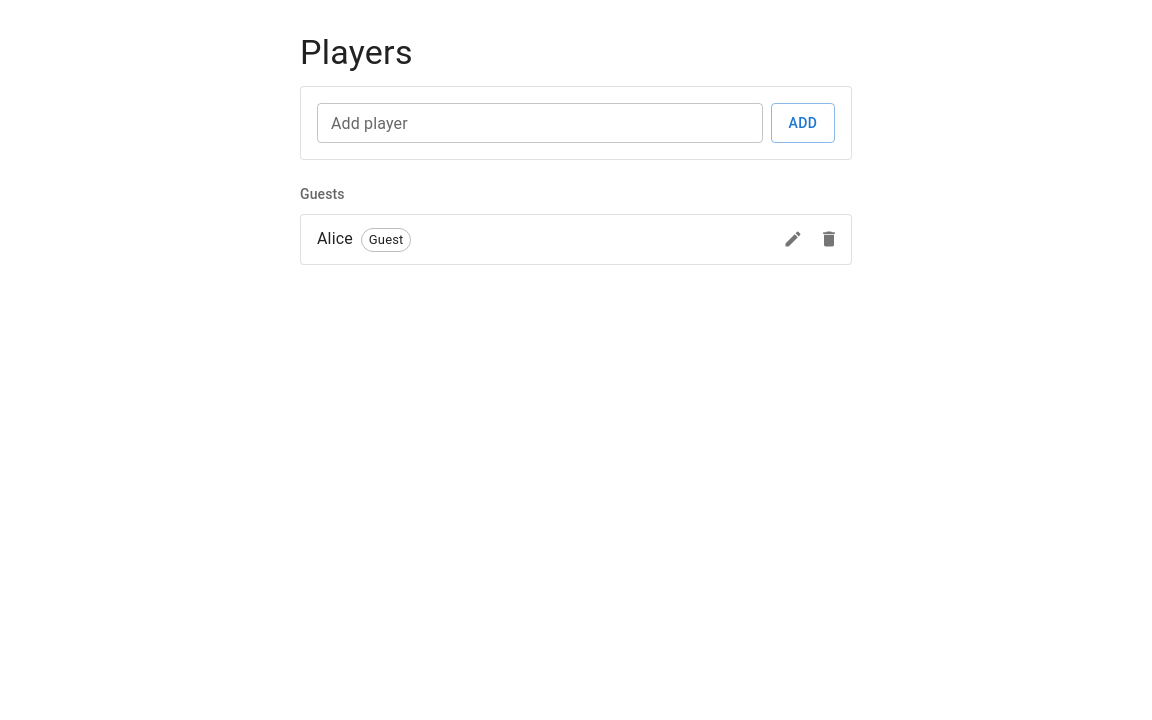
Scenario: PlayersListPage › deletes a player with no recorded rounds after confirming
expect the text "Alice" is shown: met, box left=317, top=227, right=353, bottom=251
Click the button named "delete alice". click: (829, 239)
box: left=811, top=221, right=847, bottom=257
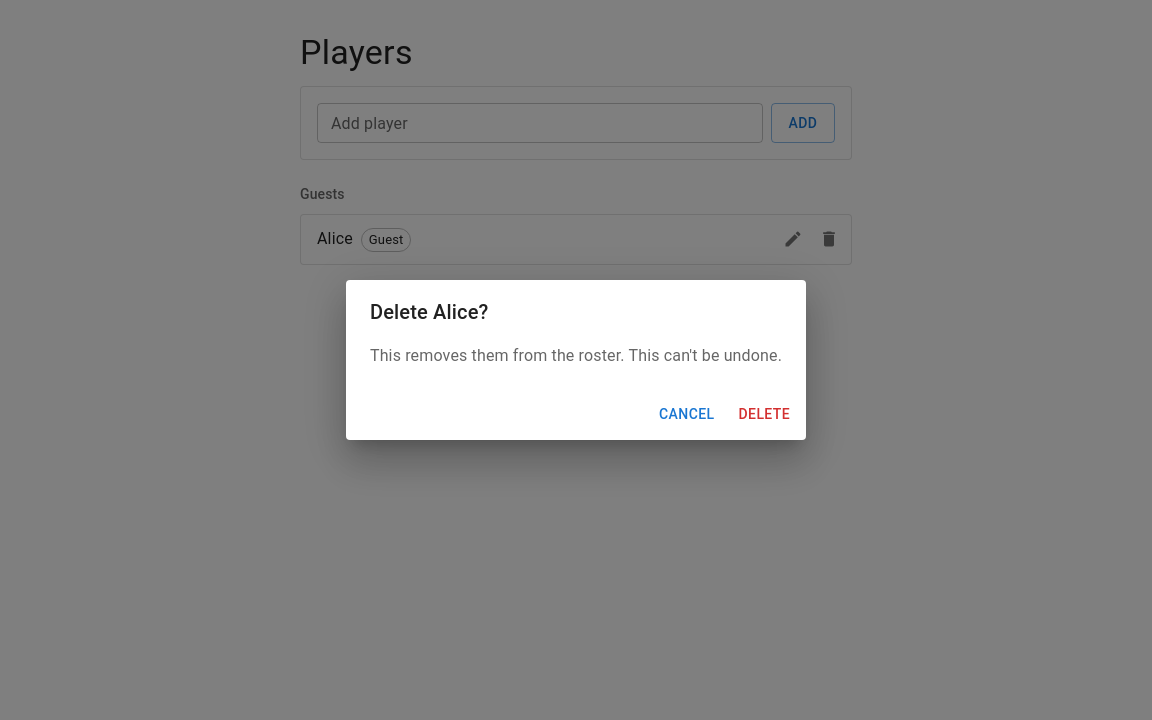
Click the button "Delete". click: (764, 414)
box: left=730, top=396, right=798, bottom=432
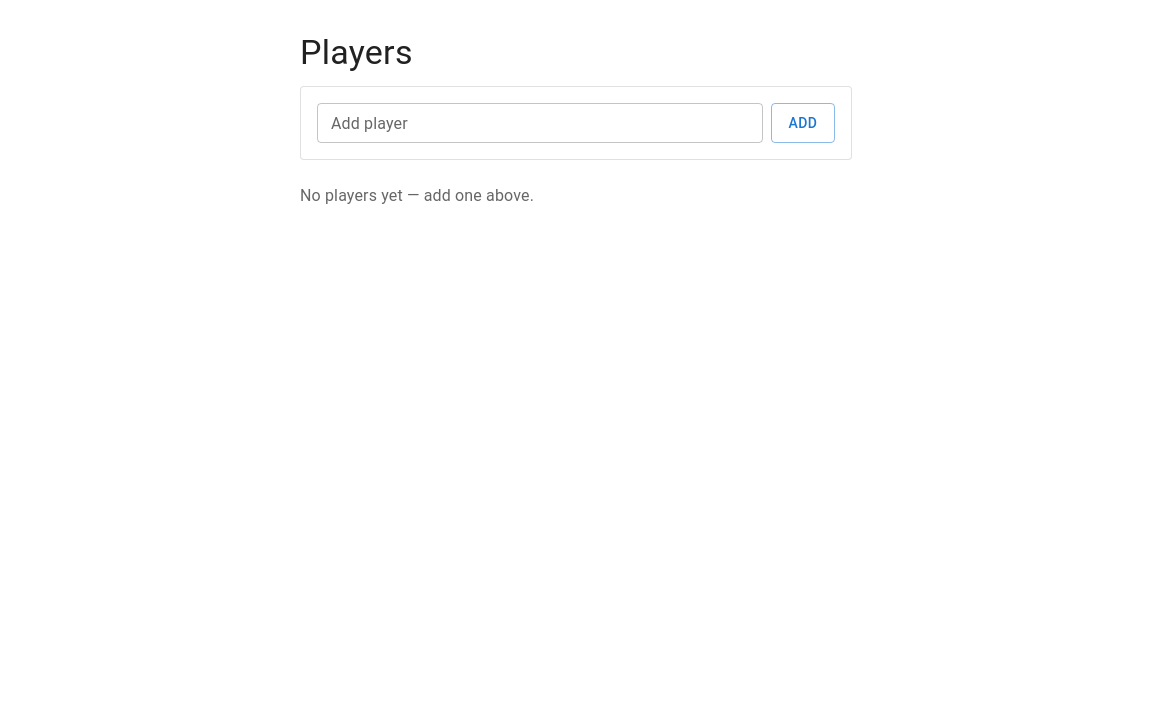
expect the link "Alice" is gone: met
